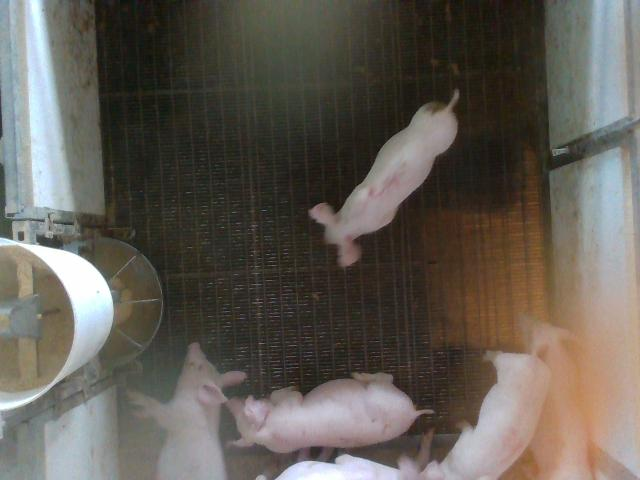pig-4: (422, 354, 550, 479)
pig-5: (309, 89, 459, 267)
